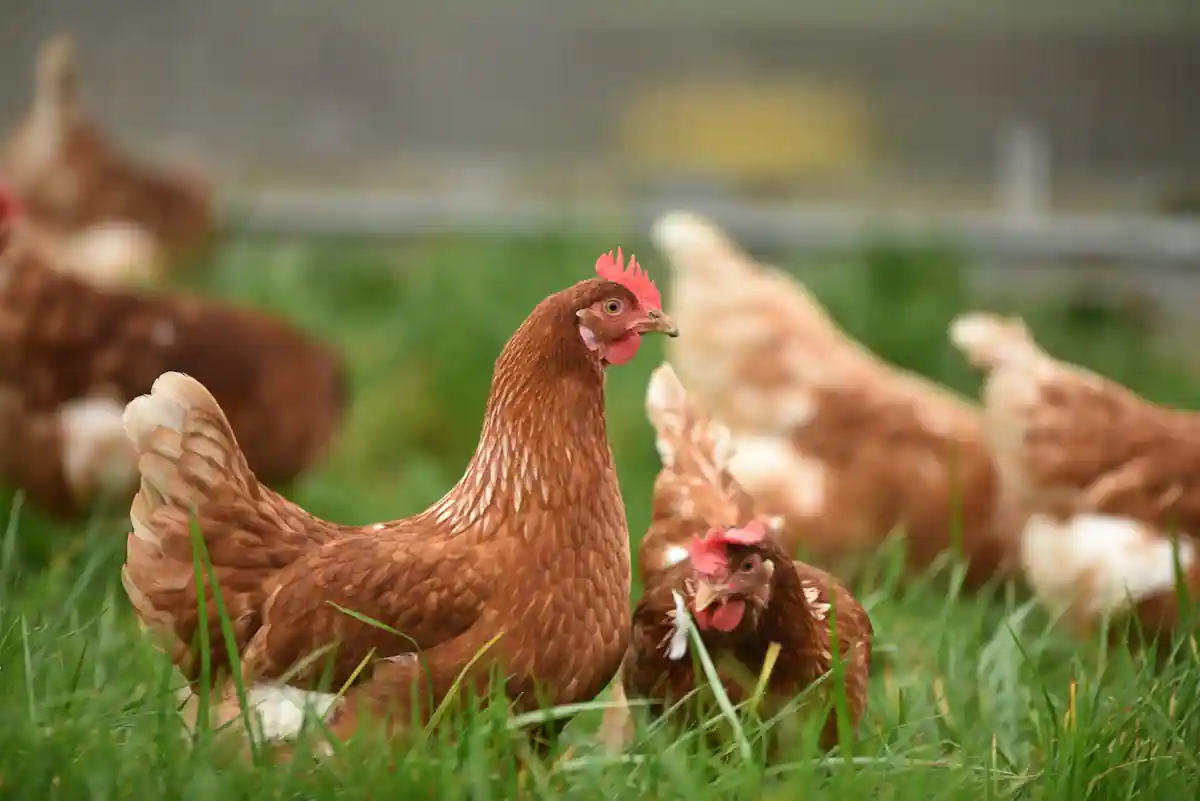Healthy: (106, 236, 692, 774), (615, 352, 882, 782)
